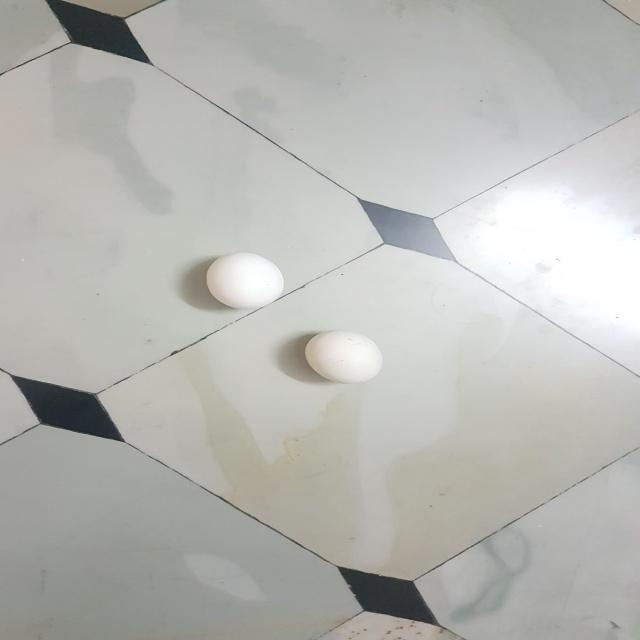eggs: (199, 243, 288, 315), (295, 322, 387, 391)
